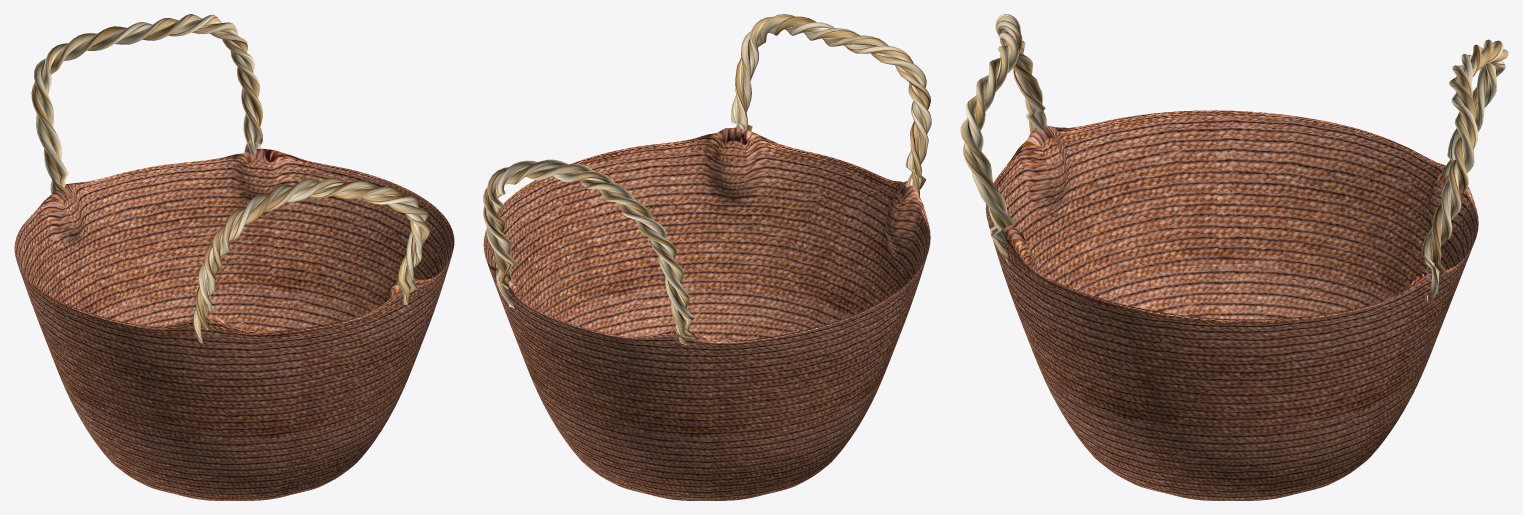
The model's file is cesteria en iraca.fbx.
3 views of the same model, side by side, from view 1: azimuth 30°, elevation 25°; view 2: azimuth 150°, elevation 25°; view 3: azimuth 270°, elevation 25° (orthographic). The views are drawn at different scales.
Parts seen in each view (by area): view 1: Cesteria_en_Iraca:Cone001; view 2: Cesteria_en_Iraca:Cone001; view 3: Cesteria_en_Iraca:Cone001.
Boxes of the visible parts, left/top/right/bottom form: Cesteria_en_Iraca:Cone001: left=14, top=14, right=454, bottom=500; Cesteria_en_Iraca:Cone001: left=483, top=14, right=931, bottom=500; Cesteria_en_Iraca:Cone001: left=960, top=14, right=1508, bottom=500.
Size of the model in its own units: 58.67 by 52.47 by 65.23.
2 materials, 2 textured.
